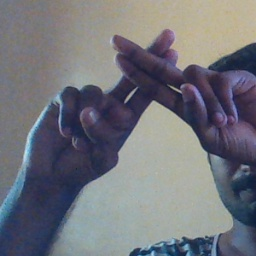F: (78, 22, 222, 141)
